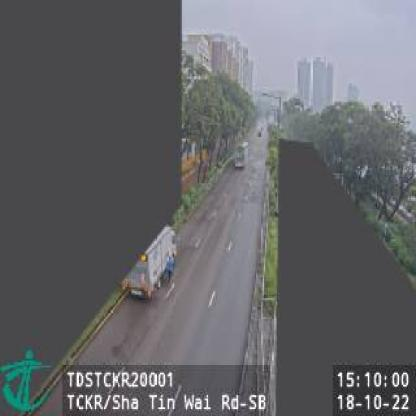Bus: (234, 138, 250, 171)
Truck: (122, 224, 178, 302)
